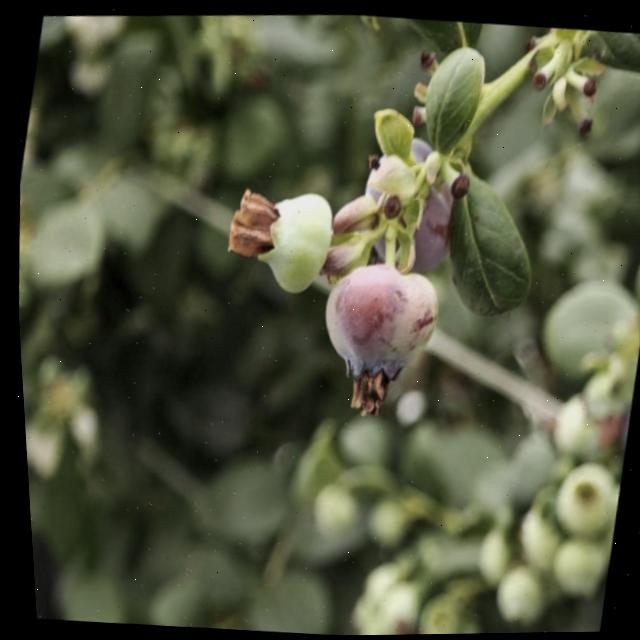Semi-RipeBlueBerry: (308, 253, 452, 393)
UnripeBlueBerry: (245, 179, 344, 300)
